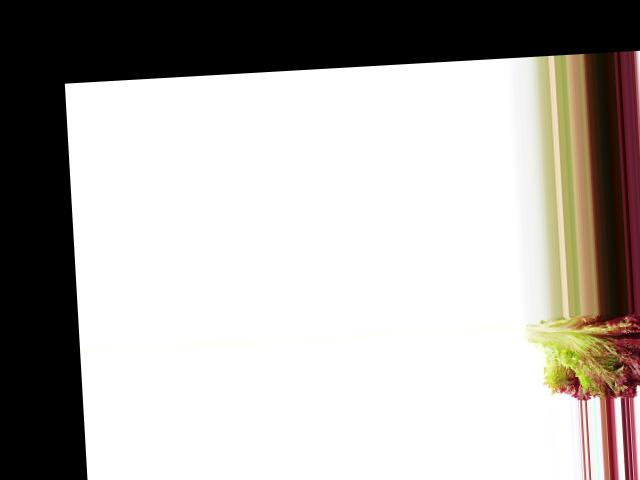lettuce: (521, 310, 640, 402)
